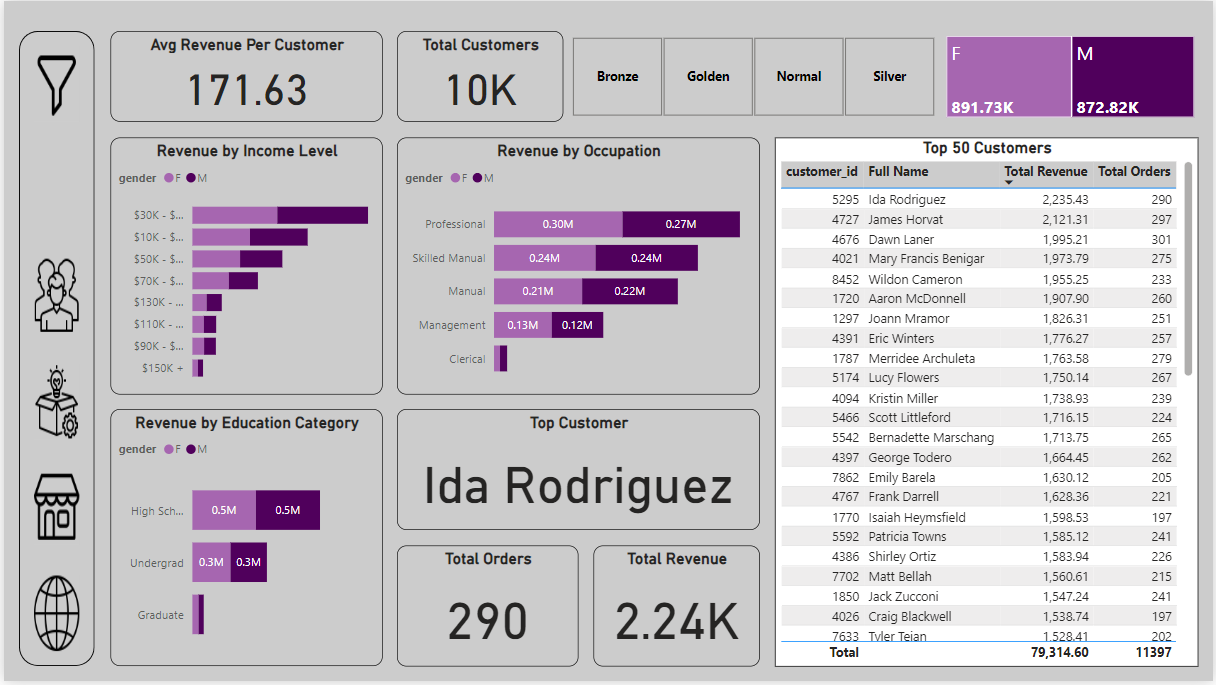

This screenshot's page, from the dashboard's own definition file:
{"tool":"powerbi","page":{"name":"Customers","canvas":[1280,720],"ordinal":1},"visuals":[{"type":"card","title":"Total Orders","fields":{"Values":["Measure Table.Total Orders"]},"box":[416,576,192,128],"z":0},{"type":"barChart","title":"Revenue by Income Level","fields":{"Category":["Customers.yearly_income"],"Y":["Measure Table.Total Revenue"],"Series":["Customers.gender"]},"box":[112,144,288,272],"z":1000},{"type":"barChart","title":"Revenue by Occupation ","fields":{"Category":["Customers.occupation"],"Series":["Customers.gender"],"Y":["Measure Table.Total Revenue"]},"box":[416,144,384,272],"z":2000},{"type":"barChart","title":"Revenue by Education Category","fields":{"Category":["Customers.Education Category"],"Y":["Measure Table.Total Revenue"],"Series":["Customers.gender"]},"box":[112,432,288,272],"z":3000},{"type":"slicer","fields":{"Values":["Customers.member_card"]},"box":[576,32,432,96],"z":4000},{"type":"card","title":"Avg Revenue Per Customer","fields":{"Values":["Measure Table.Avg Revenue Per Customer"]},"box":[112,32,288,96],"z":5000},{"type":"card","title":"Top Customer","fields":{"Values":["Customers.Full Name"]},"box":[416,432,384,128],"z":6000},{"type":"tableEx","title":"Top 50 Customers","fields":{"Values":["Customers.customer_id","Customers.Full Name","Measure Table.Total Revenue","Measure Table.Total Orders"]},"box":[816,144,448,560],"z":7000},{"type":"card","title":"Total Revenue","fields":{"Values":["Measure Table.Total Revenue"]},"box":[624,576,176,128],"z":8000},{"type":"card","title":"Total Customers","fields":{"Values":["Measure Table.Total Customers"]},"box":[416,32,176,96],"z":9000},{"type":"treemap","fields":{"Group":["Customers.gender"],"Values":["Measure Table.Total Revenue"]},"box":[992,32,272,96],"z":10000},{"type":"shape","box":[16,32,80,672],"z":11000},{"type":"actionButton","box":[32,48,48,80],"z":12000},{"type":"actionButton","box":[32,272,48,96],"z":13000},{"type":"actionButton","box":[32,496,48,80],"z":14000},{"type":"actionButton","box":[32,608,48,80],"z":15000},{"type":"actionButton","box":[32,384,48,80],"z":16000}]}

Visuals, with their boxes in screenshot pixels (x1, y1, x2, y2), scaled from the page's 1280x720 canvas onto the 1216x685 screenshot:
"Total Orders" card: bbox=[395, 548, 578, 670]
"Revenue by Income Level" barChart: bbox=[106, 137, 380, 396]
"Revenue by Occupation " barChart: bbox=[395, 137, 760, 396]
"Revenue by Education Category" barChart: bbox=[106, 411, 380, 670]
slicer - Customers.member_card: bbox=[547, 30, 958, 122]
"Avg Revenue Per Customer" card: bbox=[106, 30, 380, 122]
"Top Customer" card: bbox=[395, 411, 760, 533]
"Top 50 Customers" tableEx: bbox=[775, 137, 1201, 670]
"Total Revenue" card: bbox=[593, 548, 760, 670]
"Total Customers" card: bbox=[395, 30, 562, 122]
treemap - Customers.gender x Measure Table.Total Revenue: bbox=[942, 30, 1201, 122]
shape: bbox=[15, 30, 91, 670]
actionButton: bbox=[30, 46, 76, 122]
actionButton: bbox=[30, 259, 76, 350]
actionButton: bbox=[30, 472, 76, 548]
actionButton: bbox=[30, 578, 76, 655]
actionButton: bbox=[30, 365, 76, 441]
